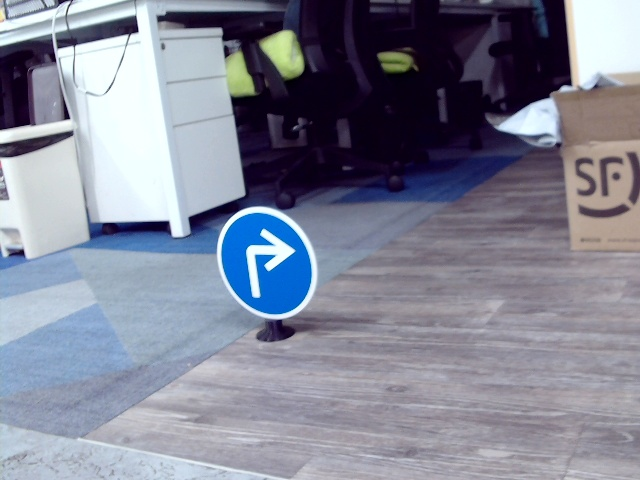turn_right: (236, 227, 297, 299)
